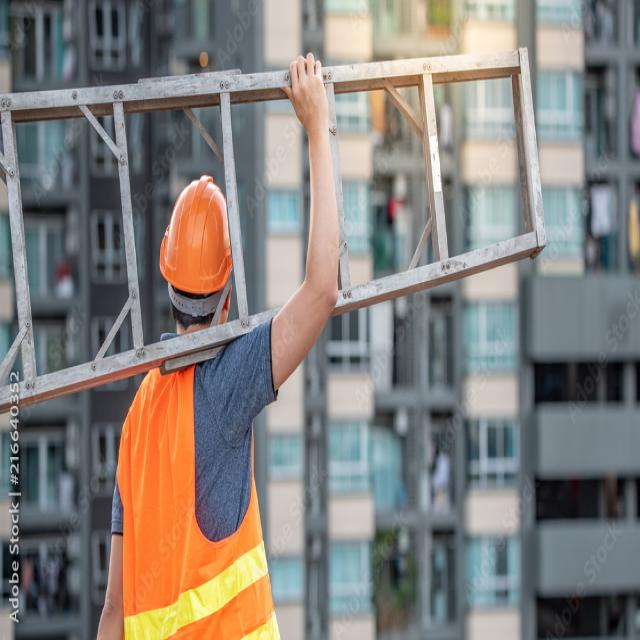helmet: (153, 165, 234, 314)
vest: (125, 356, 277, 640)
